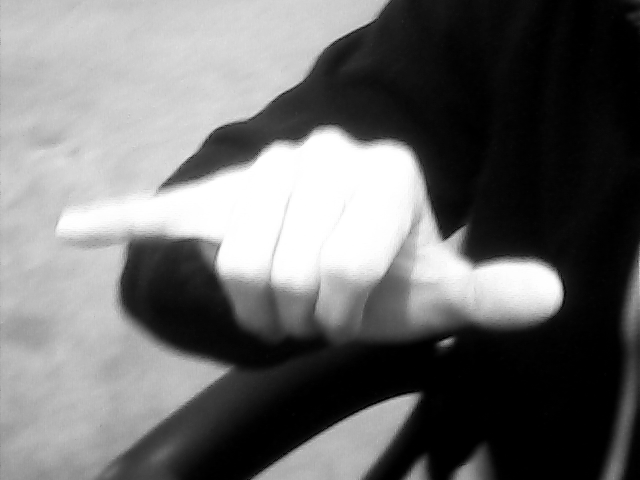aloha: (51, 122, 571, 354)
